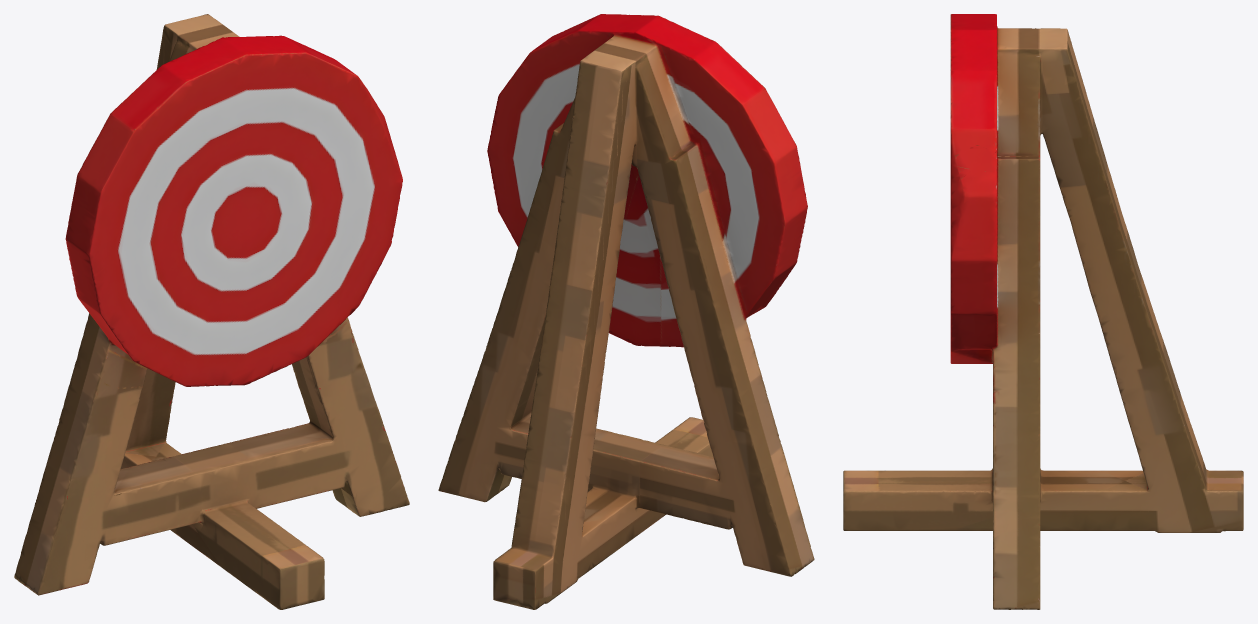
Rendered from ShootingTarget.fbx.
3 views of the same model, side by side, from view 1: azimuth 30°, elevation 25°; view 2: azimuth 150°, elevation 25°; view 3: azimuth 270°, elevation 25° (orthographic). The views are drawn at different scales.
Parts seen in each view (by area): view 1: Mesh1.0; view 2: Mesh1.0; view 3: Mesh1.0.
Boxes of the visible parts, x1=… form: Mesh1.0: x1=14, y1=14, x2=409, y2=609; Mesh1.0: x1=438, y1=14, x2=814, y2=609; Mesh1.0: x1=843, y1=14, x2=1243, y2=609.
Size of the model in its own units: 145 by 191 by 141.
1 material, 1 textured.
